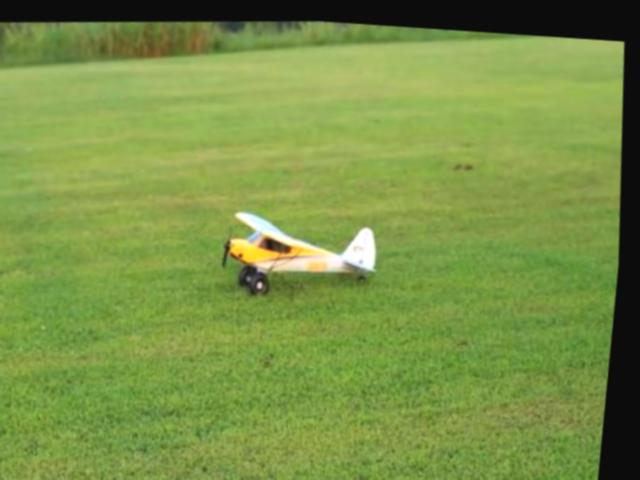uav: (214, 192, 392, 306)
